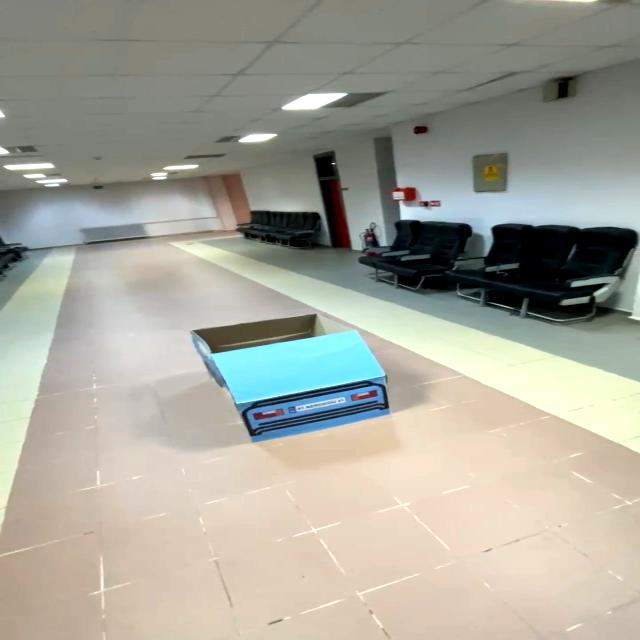blue_car: (149, 302, 428, 454)
